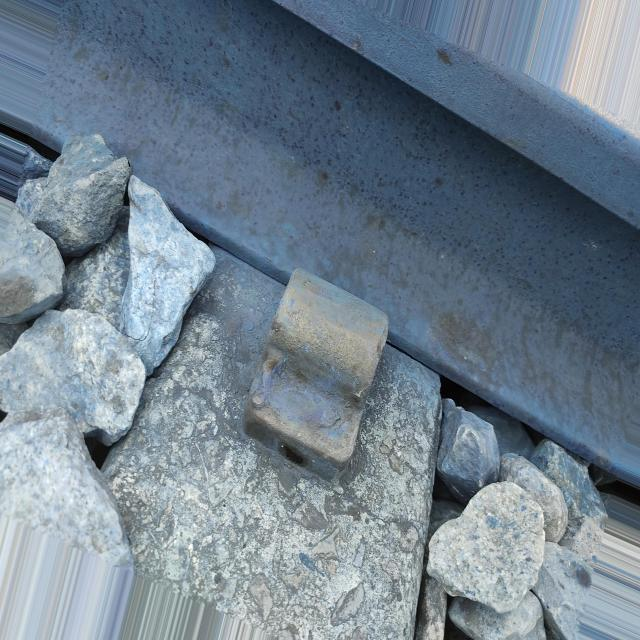Missing Fastener: (235, 244, 411, 494)
